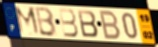0: (121, 12, 140, 40)
B: (35, 6, 58, 38), (99, 10, 123, 40), (58, 8, 80, 39), (76, 9, 99, 38)
M: (14, 5, 42, 37)
